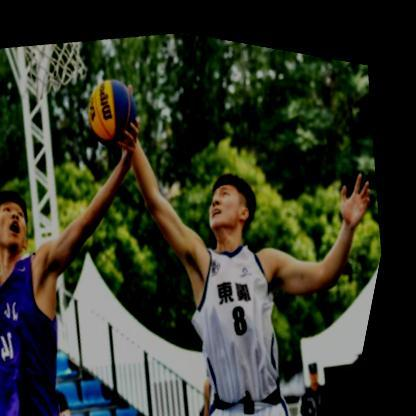basketball: (79, 66, 152, 151)
